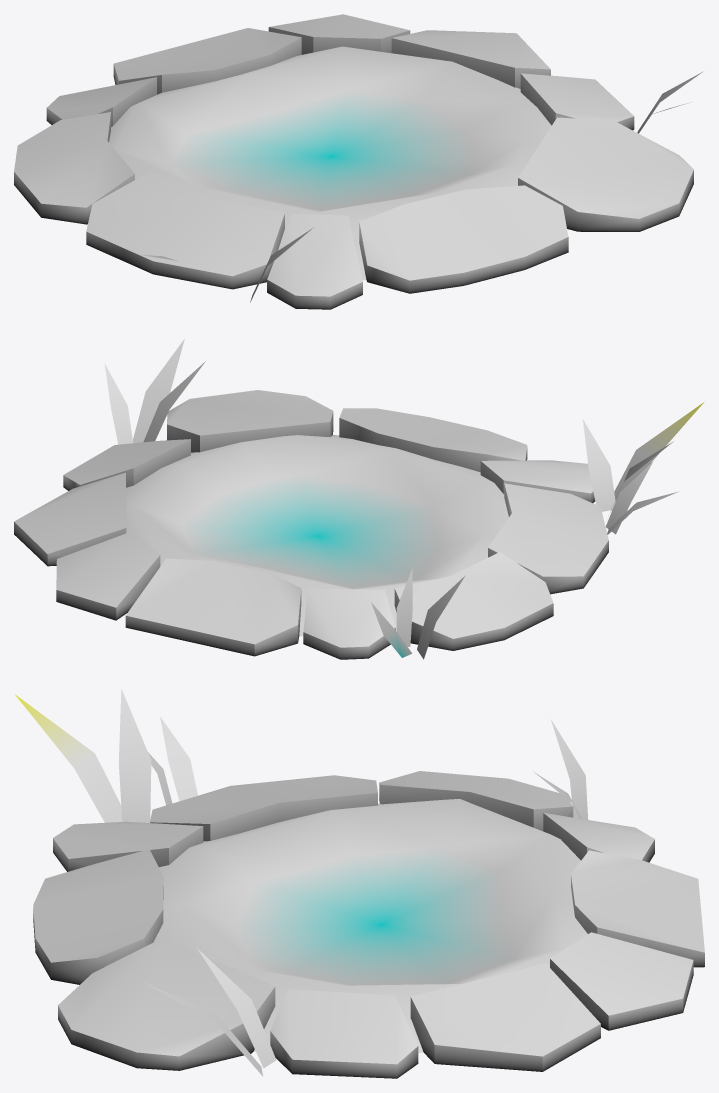
File: obstacle-geysir_H3.glb
The picture shows the model from 3 angles, top to bottom: view 1: azimuth 30°, elevation 25°; view 2: azimuth 150°, elevation 25°; view 3: azimuth 270°, elevation 25°; orthographic projection. The views are drawn at different scales.
Visible parts, largest first — view 1: obstacle-geysir_H3; view 2: obstacle-geysir_H3; view 3: obstacle-geysir_H3.
Boxes of the visible parts, box(x1,y1,x2,y2) form: obstacle-geysir_H3: box(14, 14, 703, 309); obstacle-geysir_H3: box(14, 339, 703, 659); obstacle-geysir_H3: box(14, 689, 704, 1078).
Bounding box in the file's own units: 3.25 × 0.527 × 2.96.
